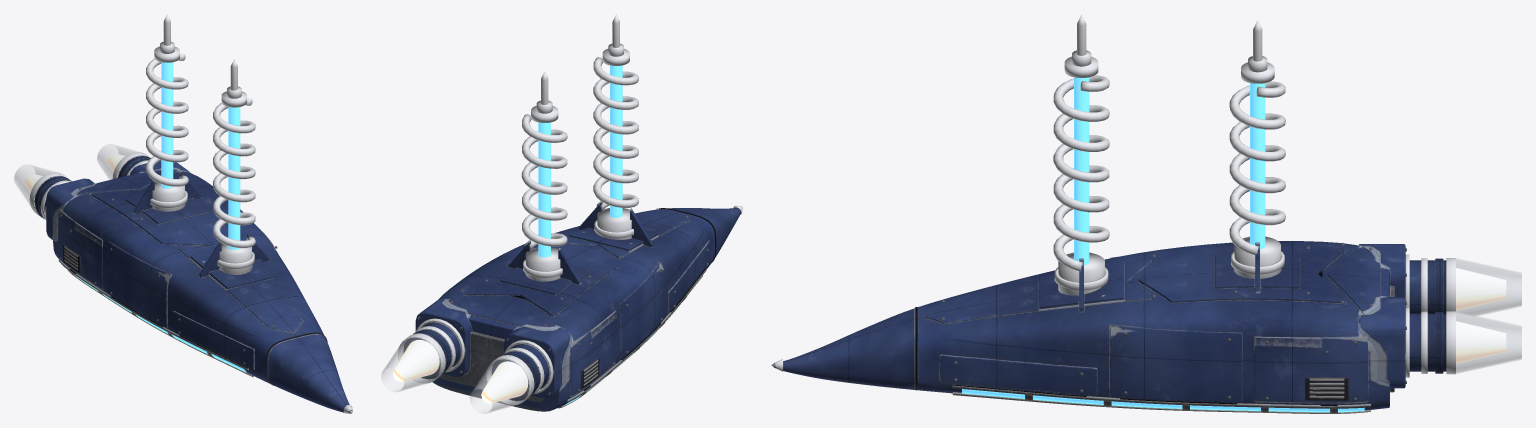
File: stormcaller.glb
3 renders of one model, left to right at view 1: azimuth 30°, elevation 25°; view 2: azimuth 150°, elevation 25°; view 3: azimuth 270°, elevation 25°, orthographic. The views are drawn at different scales.
Parts seen in each view (by area): view 1: stormcaller_body, stormcaller_steel, stormcaller_emissive, stormcaller_glass; view 2: stormcaller_body, stormcaller_steel, stormcaller_emissive, stormcaller_glass; view 3: stormcaller_body, stormcaller_steel, stormcaller_emissive, stormcaller_glass.
Boxes of the visible parts, x1,y1,x2,y2 form: stormcaller_body: [34, 156, 352, 413]; stormcaller_steel: [29, 14, 352, 413]; stormcaller_emissive: [25, 62, 246, 372]; stormcaller_glass: [14, 144, 138, 206]; stormcaller_body: [403, 202, 742, 411]; stormcaller_steel: [398, 14, 742, 405]; stormcaller_emissive: [393, 65, 655, 404]; stormcaller_glass: [381, 336, 530, 413]; stormcaller_body: [773, 241, 1446, 413]; stormcaller_steel: [771, 14, 1455, 377]; stormcaller_emissive: [962, 77, 1506, 412]; stormcaller_glass: [1456, 258, 1521, 373].
Size of the model in its own units: 1.36 by 2.56 by 4.78.
6 materials, 2 textured.
